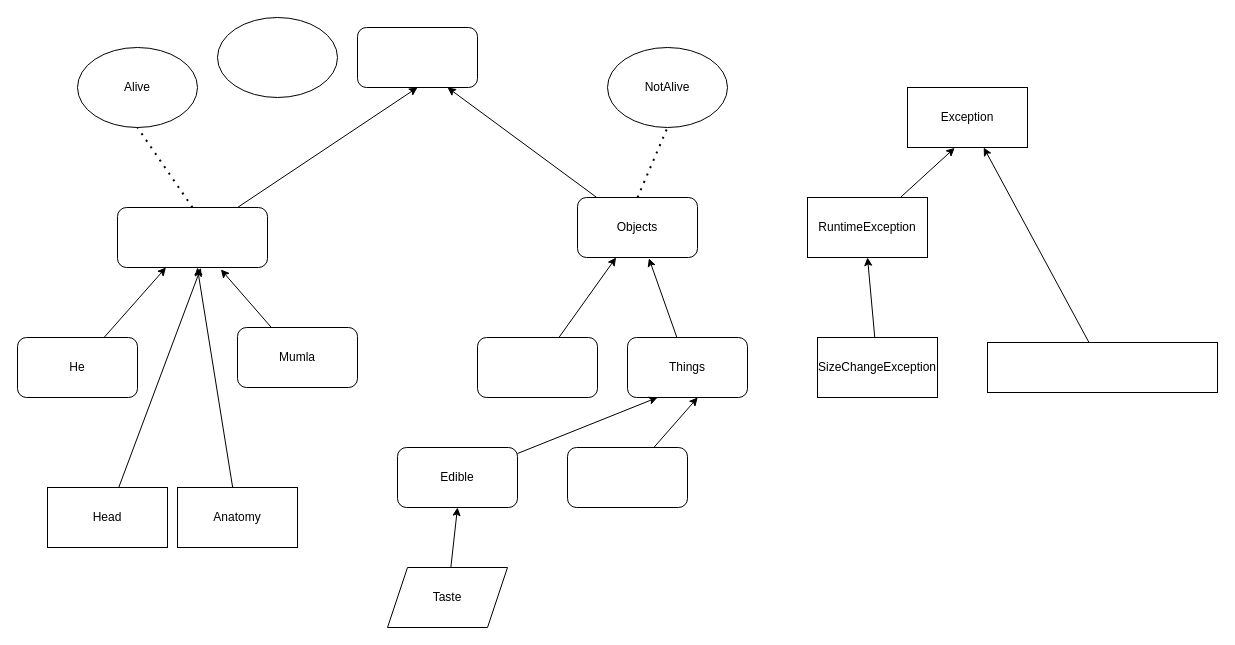
Image size: 1235x645. Some labels were removed from this diagram. Here are the shapes that lost their labels. From the top down, the box of each, then its label:
(216, 16, 338, 98): Weather
(356, 26, 478, 88): Entity
(116, 206, 268, 268): Humans
(476, 336, 598, 398): Places
(986, 342, 1218, 392): NewNameNotSupportedException
(566, 446, 688, 508): Inedible
